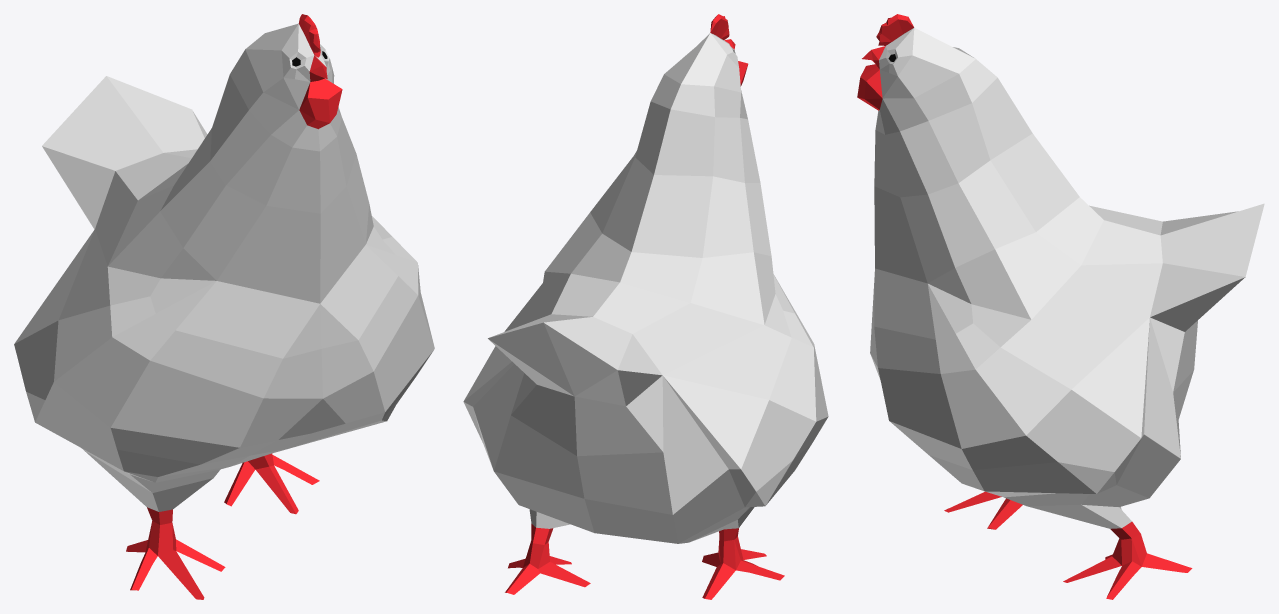
File: chicken_2.FBX
The picture shows the model from 3 angles, left to right: view 1: azimuth 30°, elevation 25°; view 2: azimuth 150°, elevation 25°; view 3: azimuth 270°, elevation 25°; orthographic projection. The views are drawn at different scales.
Parts seen in each view (by area): view 1: chicken_2; view 2: chicken_2; view 3: chicken_2.
Boxes of the visible parts, x1,y1,x2,y2 form: chicken_2: [14, 14, 434, 599]; chicken_2: [463, 14, 828, 599]; chicken_2: [857, 14, 1264, 599].
Size of the model in its own units: 0.214 by 0.3258 by 0.226.
Materials: 1 (1 with a texture image).
